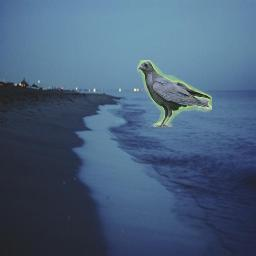Crow: (137, 60, 212, 127)
